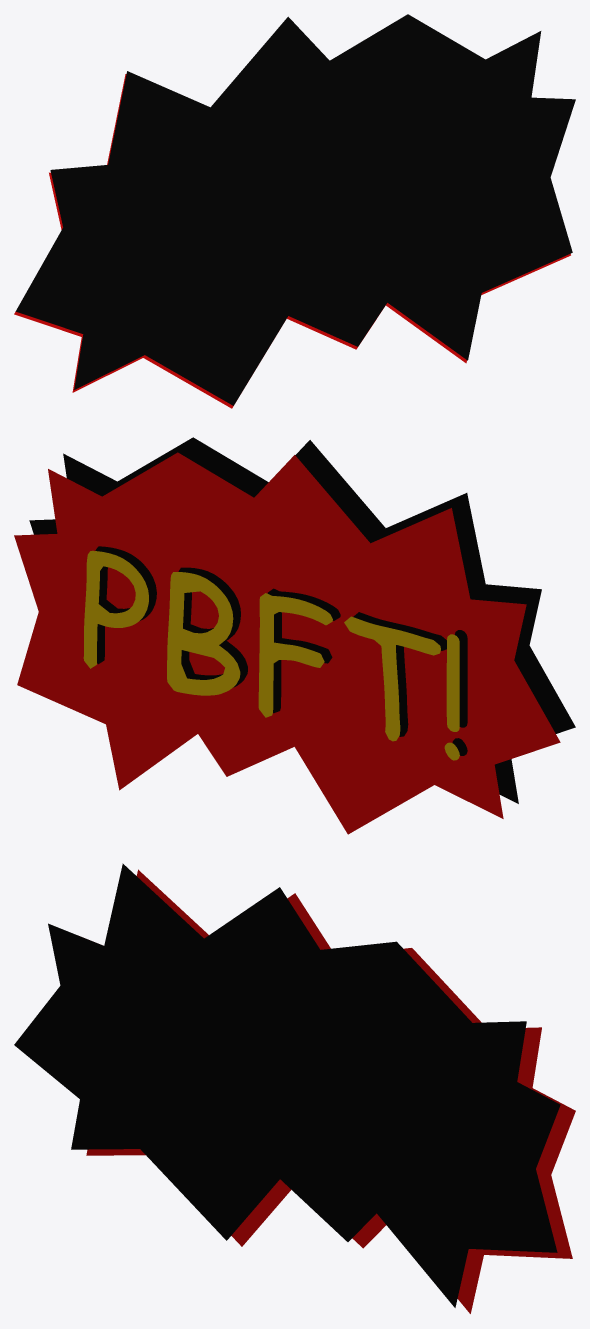
File: Hit3.fbx
3 views of the same model, one above another, from view 1: azimuth 30°, elevation 25°; view 2: azimuth 150°, elevation 25°; view 3: azimuth 330°, elevation 25° (orthographic). The views are drawn at different scales.
Visible parts, largest first — view 1: hit3; view 2: hit3; view 3: hit3.
Boxes of the visible parts, x1,y1,x2,y2 form: hit3: (14,14,575,408); hit3: (14,437,575,834); hit3: (14,863,575,1313).
Size of the model in its own units: 98.57 by 66.24 by 4.09.
Materials: 1 (1 with a texture image).
